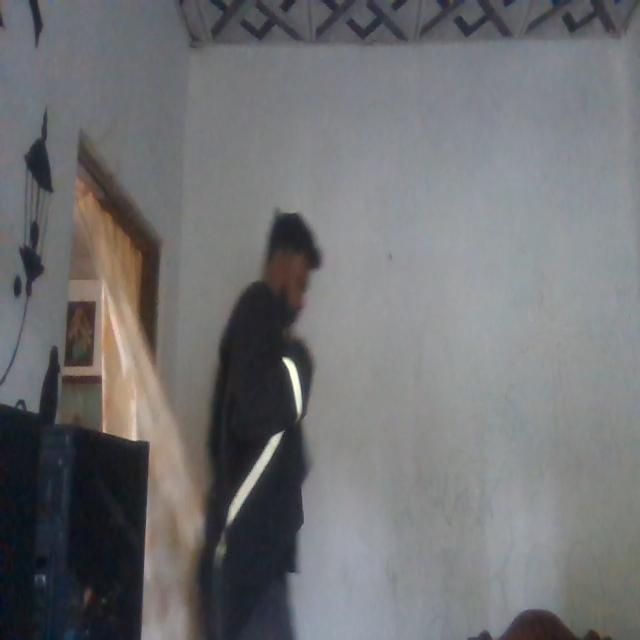Jacket_Wearer: (214, 284, 318, 602)
Person: (208, 179, 339, 640)
